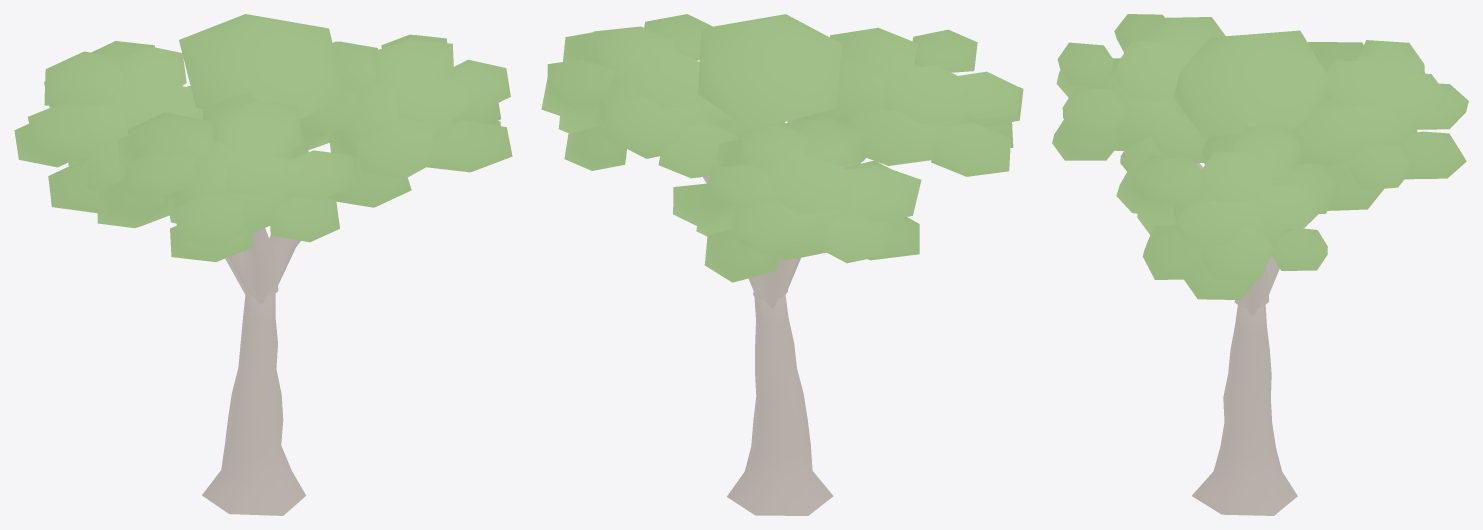
The model's file is Blender_LakeCottonwood_3_Far.glb.
3 views of the same model, side by side, from view 1: azimuth 30°, elevation 25°; view 2: azimuth 150°, elevation 25°; view 3: azimuth 270°, elevation 25° (orthographic). The views are drawn at different scales.
Visible parts, largest first — view 1: Blender_LakeCottonwood_3_Far; view 2: Blender_LakeCottonwood_3_Far; view 3: Blender_LakeCottonwood_3_Far.
Part boxes in pixels (x1=…): Blender_LakeCottonwood_3_Far: x1=14, y1=14, x2=512, y2=515; Blender_LakeCottonwood_3_Far: x1=541, y1=14, x2=1023, y2=515; Blender_LakeCottonwood_3_Far: x1=1052, y1=14, x2=1468, y2=515.
Size of the model in its own units: 22.87 by 24.1 by 19.57.
